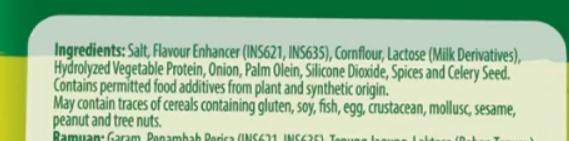ingredients: (42, 31, 559, 131)
